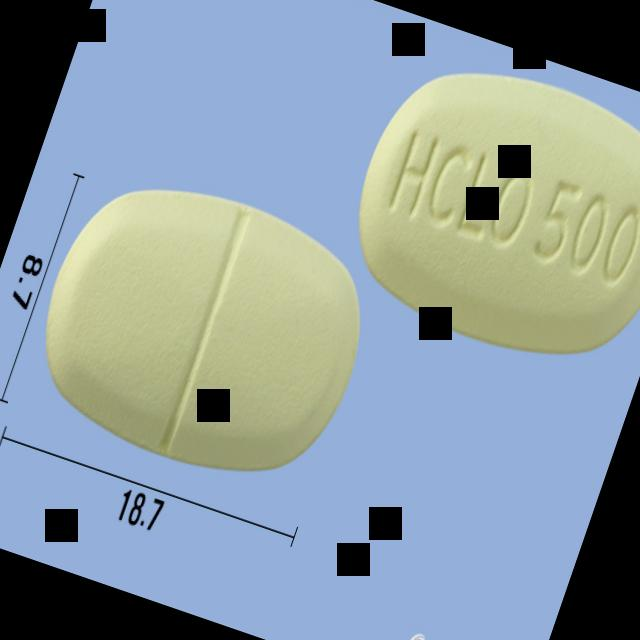Hericlo: (324, 34, 640, 391)
